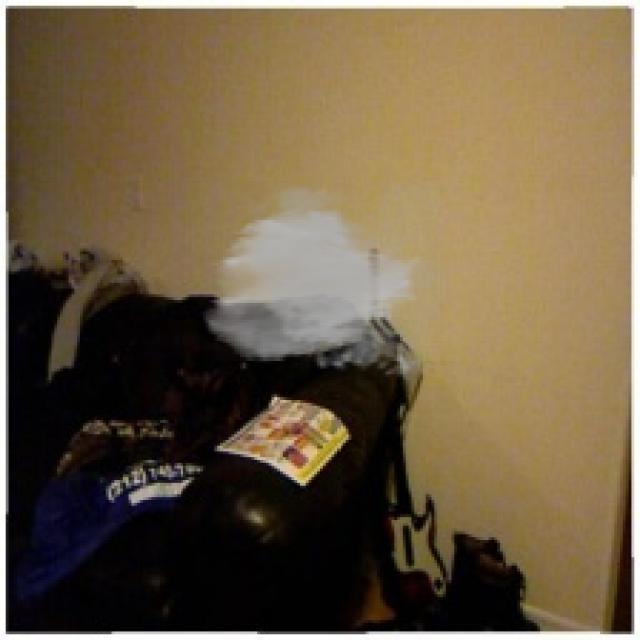Smoke: (200, 180, 446, 383)
